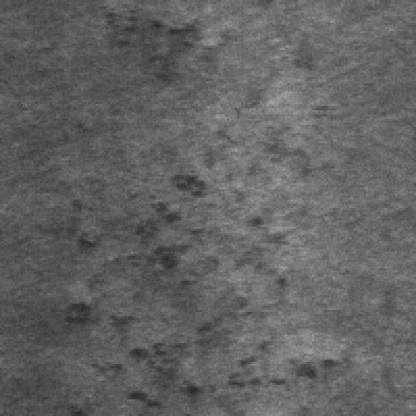rolled-in_scale: (83, 168, 316, 410), (93, 0, 220, 75)
